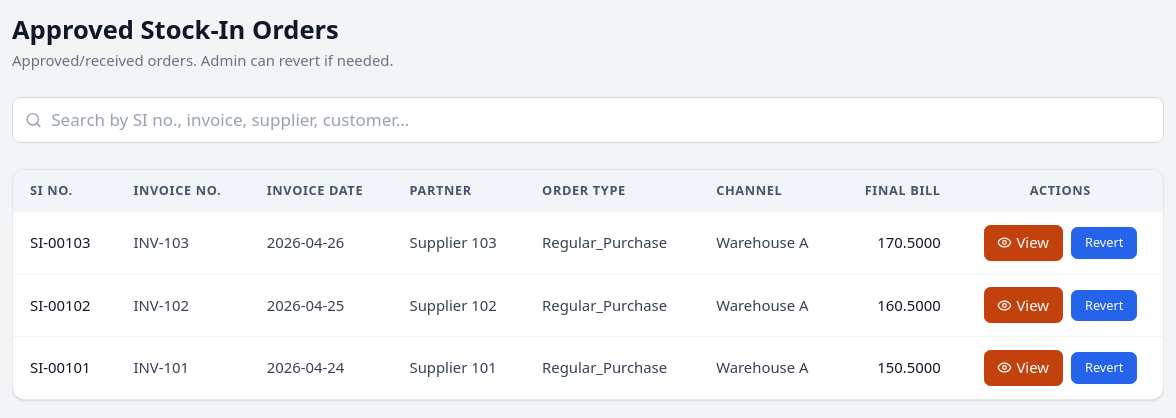
it: StockInListPage view action › shows the full admin-approved list newest-first and filters it with client-side search
The width and height of the screenshot is (1176, 418).
Type "SI-00102" into the field with placeholder "Search by SI no., invoice, supplier, customer…" at (588, 120), box [12,97,1164,143]
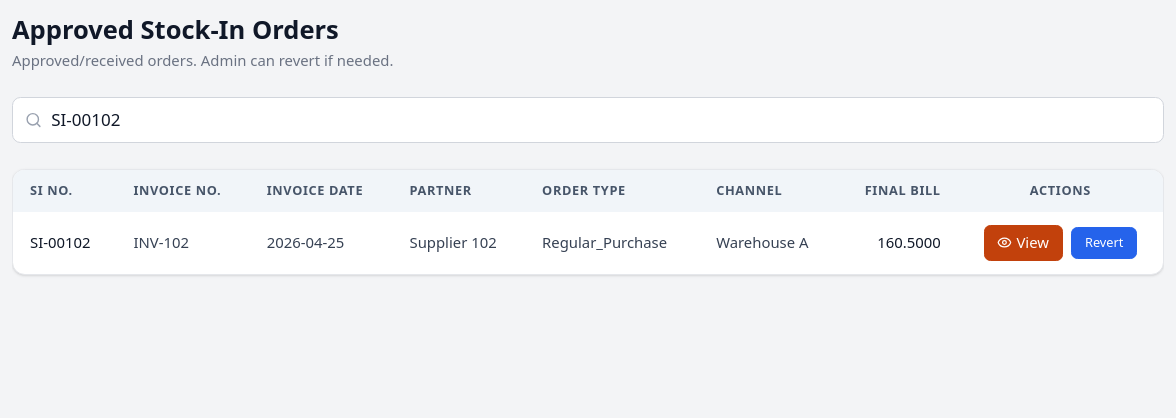
Check: the text "SI-00102" is shown, box [13,212,116,274]
Check: the text "SI-00103" is gone
Check: the text "SI-00101" is gone
